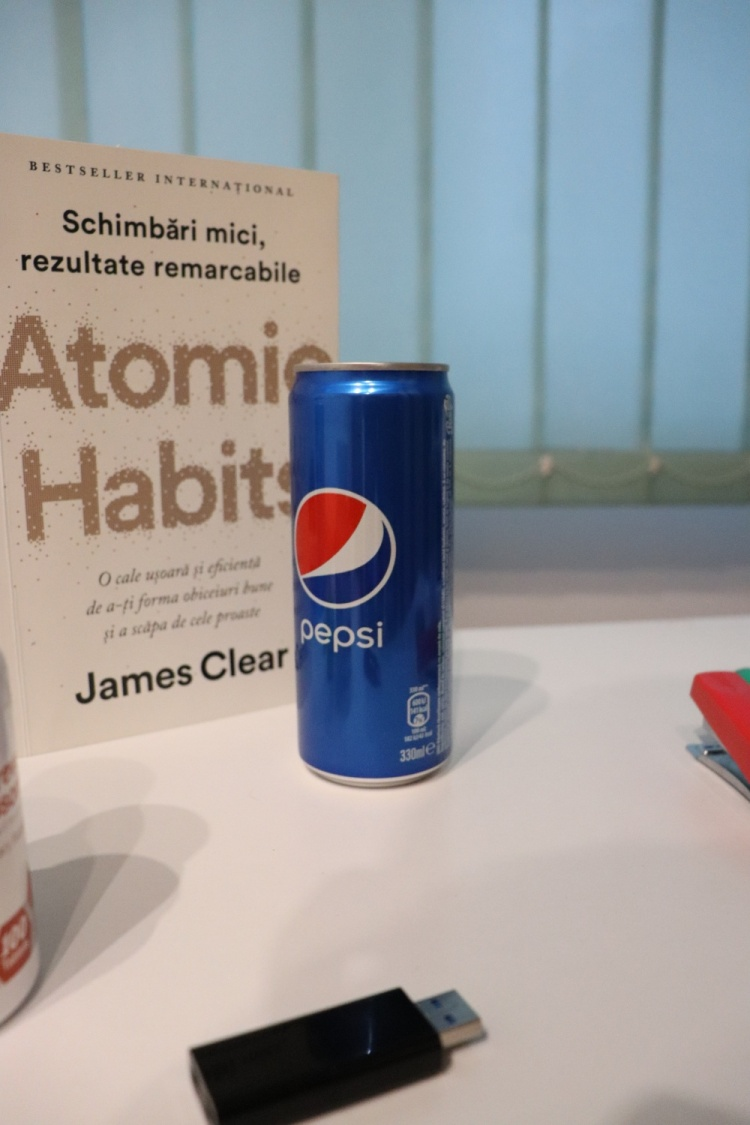pepsi: (284, 360, 459, 795)
